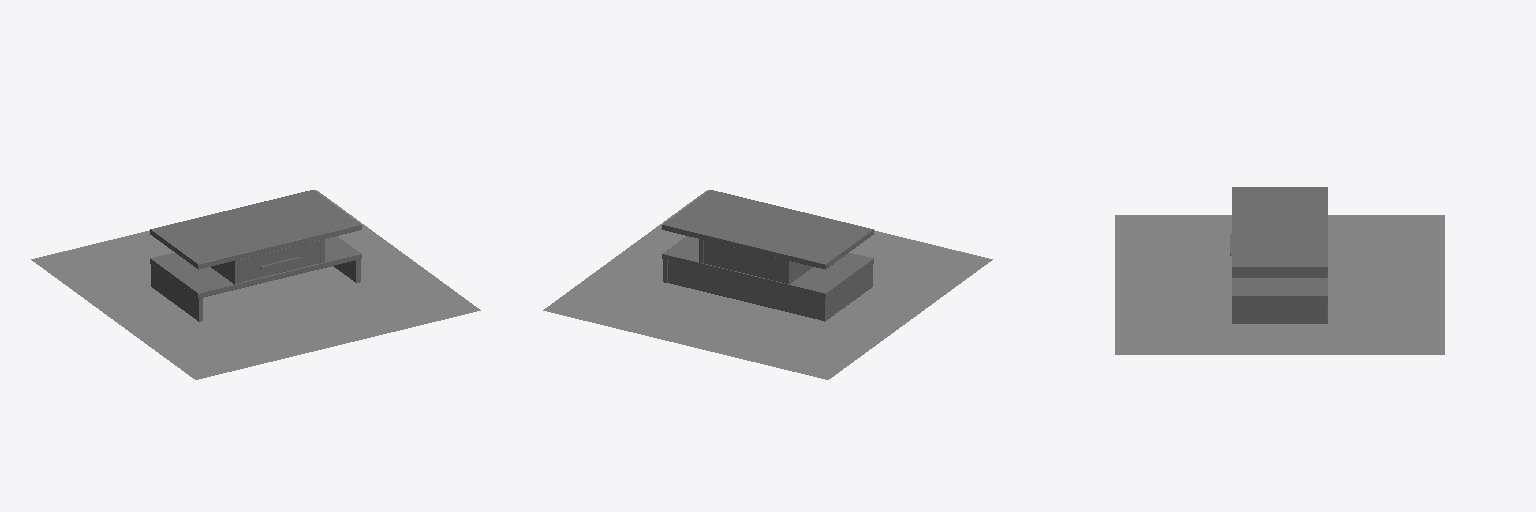
File: ZPCD1733.obj
3 views of the same model, side by side, from view 1: azimuth 30°, elevation 25°; view 2: azimuth 150°, elevation 25°; view 3: azimuth 270°, elevation 25° (orthographic).
Visible parts, largest first — view 1: shadow_plane_v6, not_clear_obj_1_v6; view 2: shadow_plane_v6, not_clear_obj_1_v6; view 3: shadow_plane_v6, not_clear_obj_1_v6.
Part boxes in pixels (left/top/right/bottom): shadow_plane_v6: left=31, top=190, right=480, bottom=379; not_clear_obj_1_v6: left=150, top=190, right=361, bottom=321; shadow_plane_v6: left=543, top=190, right=992, bottom=379; not_clear_obj_1_v6: left=662, top=190, right=873, bottom=321; shadow_plane_v6: left=1115, top=215, right=1444, bottom=354; not_clear_obj_1_v6: left=1232, top=187, right=1327, bottom=323.
Size of the model in its own units: 209 by 40.64 by 209.